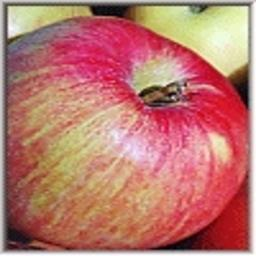apple: (6, 14, 247, 250)
